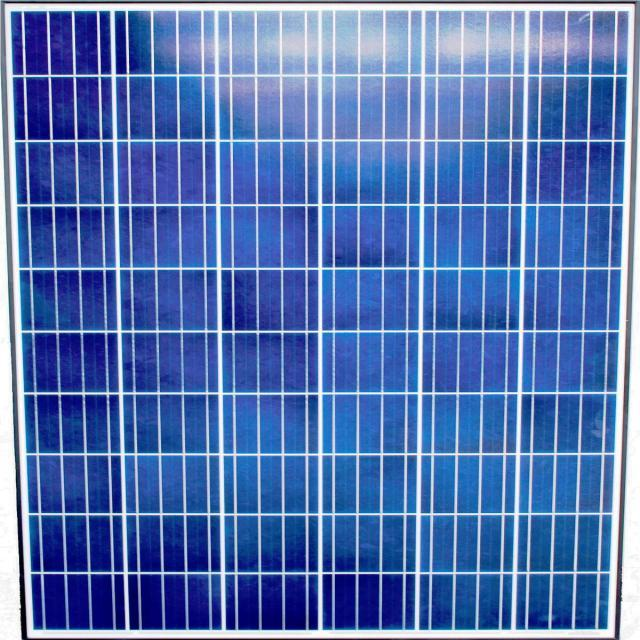no faulty: (11, 11, 640, 639)
